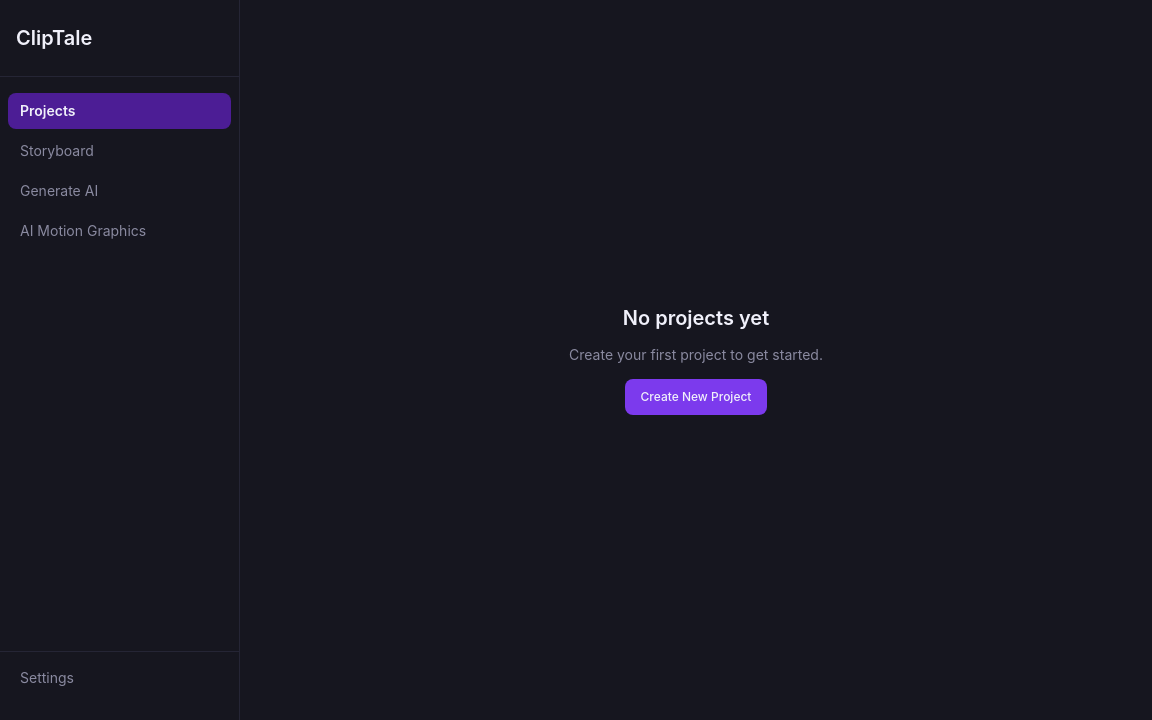
Test: HomePage › should show the Generate AI Flows panel when the Generate AI tab is clicked
This screenshot has width=1152, height=720.
Click the tab "Generate AI" at (120, 191), box top-left (8, 173), bottom-right (231, 209)
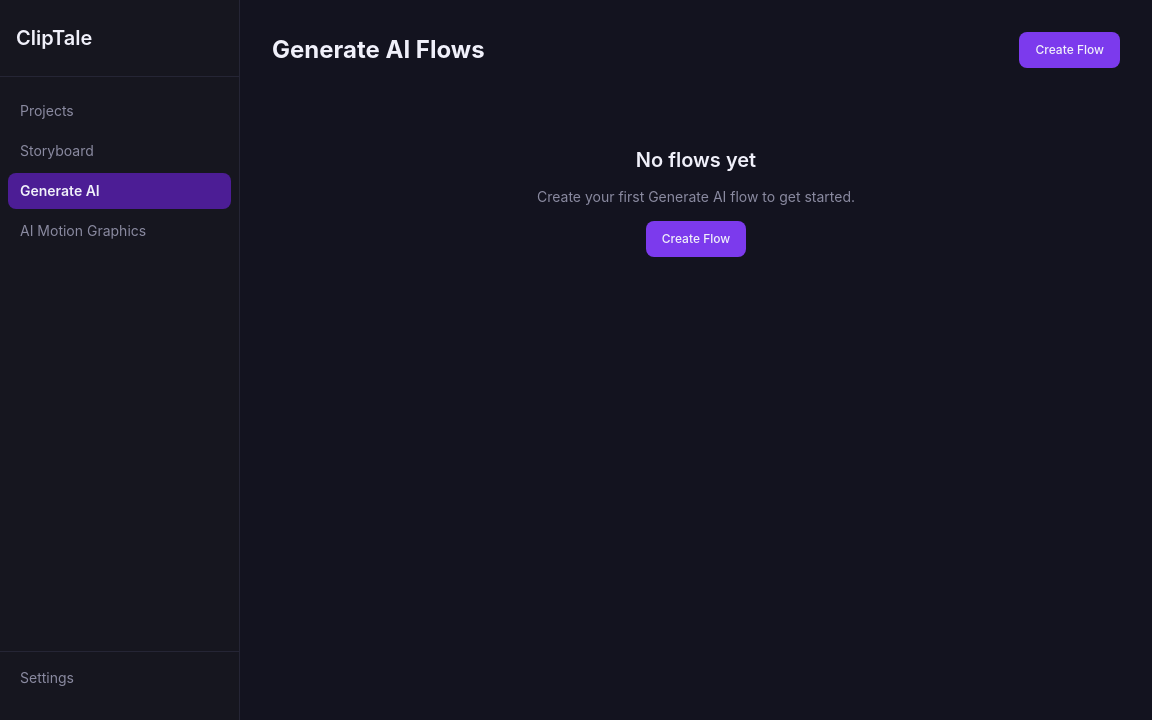
Expected: the heading "Generate AI Flows" is shown, top-left (272, 34), bottom-right (485, 66)
